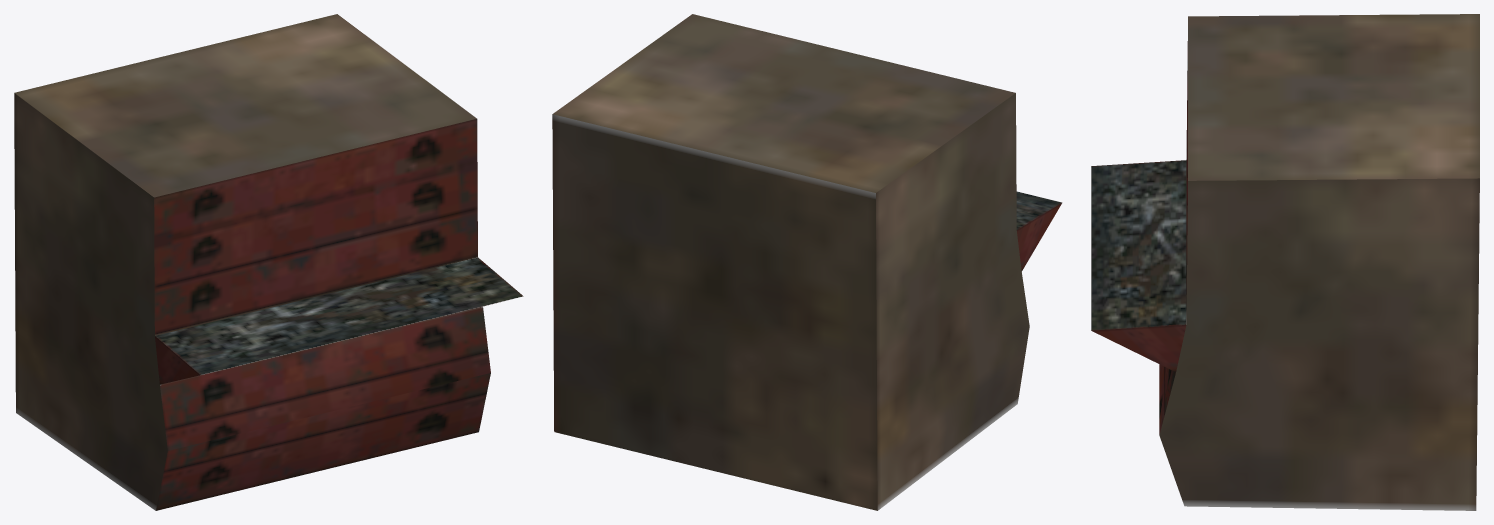
The model's file is frn_all_toolchest_med_s01_l2.fbx.
3 views of the same model, side by side, from view 1: azimuth 30°, elevation 25°; view 2: azimuth 150°, elevation 25°; view 3: azimuth 270°, elevation 25° (orthographic). The views are drawn at different scales.
Parts seen in each view (by area): view 1: mesh_node; view 2: mesh_node; view 3: mesh_node.
Part boxes in pixels (<box>): mesh_node: <box>14,14,523,510</box>; mesh_node: <box>552,14,1062,510</box>; mesh_node: <box>1091,14,1479,510</box>.
Size of the model in its own units: 1 by 0.9427 by 0.9995.
